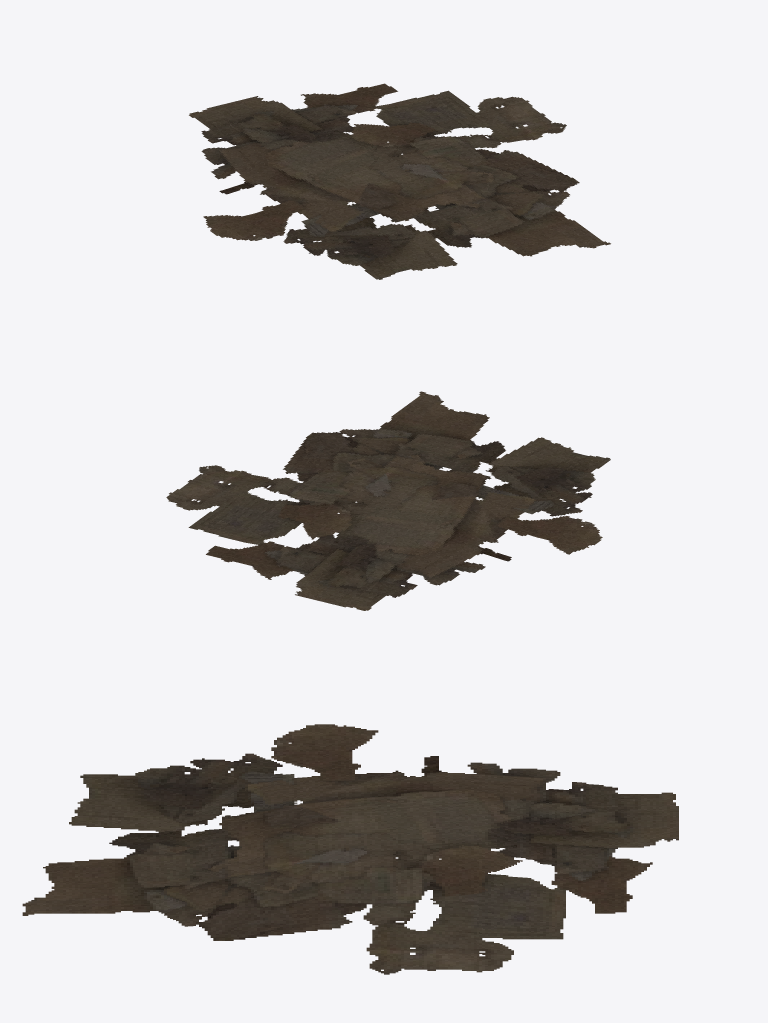
The model's file is trash_6.glb.
3 renders of one model, top to bottom at view 1: azimuth 30°, elevation 25°; view 2: azimuth 150°, elevation 25°; view 3: azimuth 270°, elevation 25°, orthographic. The views are drawn at different scales.
Visible parts, largest first — view 1: trash_6; view 2: trash_6; view 3: trash_6.
Part boxes in pixels (x1=…): trash_6: x1=189, y1=83, x2=610, y2=279; trash_6: x1=166, y1=391, x2=610, y2=610; trash_6: x1=22, y1=724, x2=678, y2=974.
Bounding box in the file's own units: 1 × 0.0147 × 1.
1 material, 1 textured.
